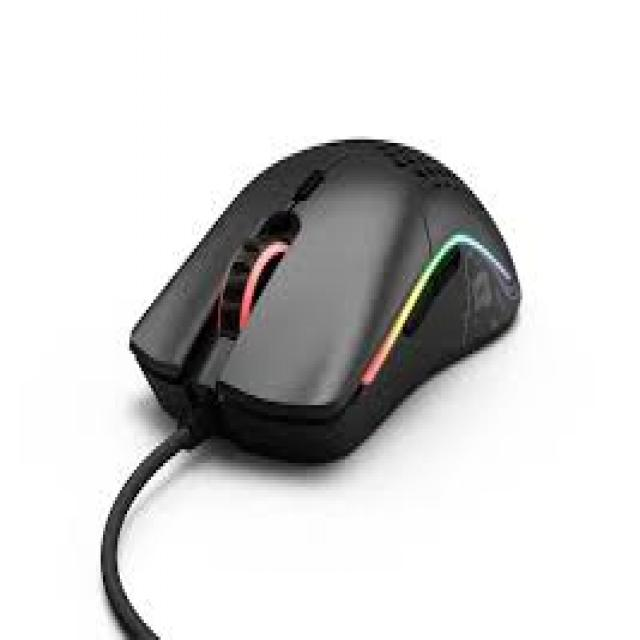others: (72, 106, 556, 473)
